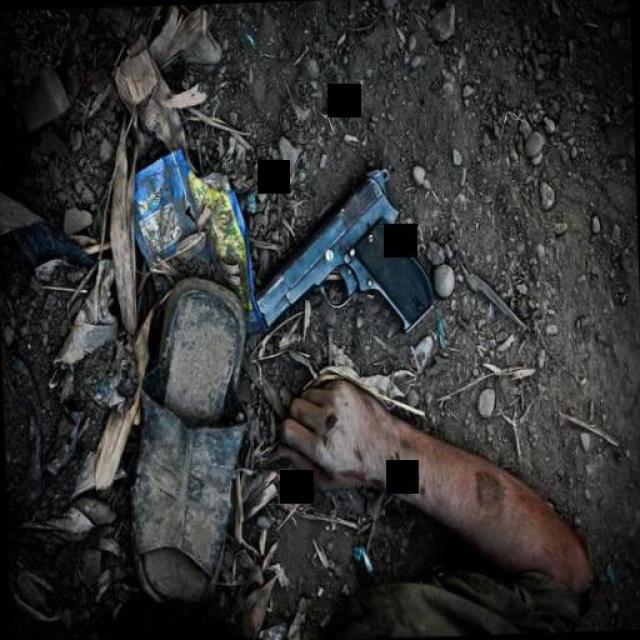gun: (245, 160, 439, 342)
